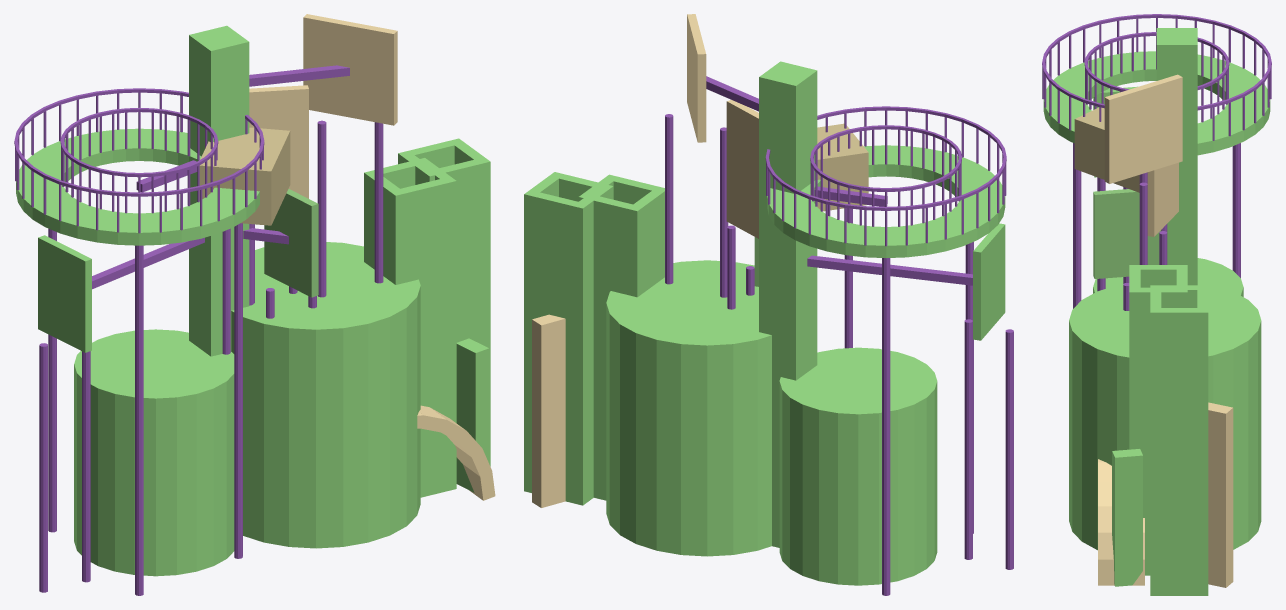
Rendered from folie_tag_123.glb.
3 renders of one model, left to right at view 1: azimuth 30°, elevation 25°; view 2: azimuth 150°, elevation 25°; view 3: azimuth 270°, elevation 25°, orthographic. The views are drawn at different scales.
Visible parts, largest first — view 1: folie_tag_123_00_drum, folie_tag_123_02_drum, folie_tag_123_line, folie_tag_123_05_tower, folie_tag_123_01_ring, folie_tag_123_core, folie_tag_123_04_tower, folie_tag_123_06_panel, folie_tag_123_12_panel, folie_tag_123_09_block, folie_tag_123_11_panel, folie_tag_123_08_panel (+2 smaller); view 2: folie_tag_123_00_drum, folie_tag_123_02_drum, folie_tag_123_line, folie_tag_123_04_tower, folie_tag_123_core, folie_tag_123_01_ring, folie_tag_123_05_tower, folie_tag_123_07_fin, folie_tag_123_08_panel, folie_tag_123_12_panel, folie_tag_123_09_block, folie_tag_123_06_panel; view 3: folie_tag_123_00_drum, folie_tag_123_04_tower, folie_tag_123_line, folie_tag_123_01_ring, folie_tag_123_06_panel, folie_tag_123_05_tower, folie_tag_123_core, folie_tag_123_07_fin, folie_tag_123_11_panel, folie_tag_123_10_fin, folie_tag_123_09_block, folie_tag_123_03_arc (+2 smaller).
Part boxes in pixels (<box>): folie_tag_123_00_drum: <box>231,242,420,548</box>; folie_tag_123_02_drum: <box>74,329,234,576</box>; folie_tag_123_line: <box>14,65,383,595</box>; folie_tag_123_05_tower: <box>364,158,456,497</box>; folie_tag_123_01_ring: <box>16,128,259,245</box>; folie_tag_123_core: <box>189,25,249,356</box>; folie_tag_123_04_tower: <box>398,138,490,466</box>; folie_tag_123_06_panel: <box>303,14,397,125</box>; folie_tag_123_12_panel: <box>38,235,91,352</box>; folie_tag_123_09_block: <box>199,127,290,225</box>; folie_tag_123_11_panel: <box>264,189,318,297</box>; folie_tag_123_08_panel: <box>249,85,308,198</box>; folie_tag_123_00_drum: <box>606,260,771,556</box>; folie_tag_123_02_drum: <box>779,347,937,585</box>; folie_tag_123_line: <box>665,76,1013,595</box>; folie_tag_123_04_tower: <box>524,172,613,505</box>; folie_tag_123_core: <box>759,61,817,547</box>; folie_tag_123_01_ring: <box>767,145,1005,258</box>; folie_tag_123_05_tower: <box>578,174,664,500</box>; folie_tag_123_07_fin: <box>532,314,565,507</box>; folie_tag_123_08_panel: <box>726,100,758,238</box>; folie_tag_123_12_panel: <box>973,223,1005,340</box>; folie_tag_123_09_block: <box>817,123,868,211</box>; folie_tag_123_06_panel: <box>687,14,706,142</box>; folie_tag_123_00_drum: <box>1069,282,1261,550</box>; folie_tag_123_04_tower: <box>1150,285,1208,595</box>; folie_tag_123_line: <box>1042,14,1271,310</box>; folie_tag_123_01_ring: <box>1043,51,1270,155</box>; folie_tag_123_06_panel: <box>1104,74,1182,183</box>; folie_tag_123_05_tower: <box>1129,265,1187,575</box>; folie_tag_123_core: <box>1156,28,1197,285</box>; folie_tag_123_07_fin: <box>1208,402,1233,587</box>; folie_tag_123_11_panel: <box>1093,189,1161,278</box>; folie_tag_123_10_fin: <box>1112,449,1142,586</box>; folie_tag_123_09_block: <box>1074,107,1139,192</box>; folie_tag_123_03_arc: <box>1098,459,1144,585</box>.
Size of the model in its own units: 13.29 by 13.3 by 6.21.
